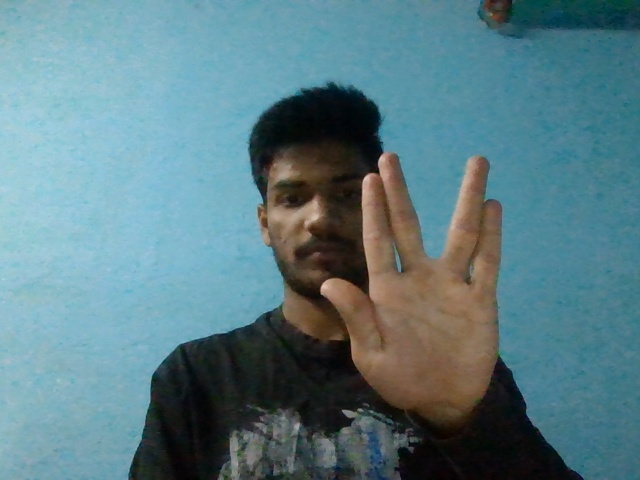Live Long: (319, 152, 503, 408)
